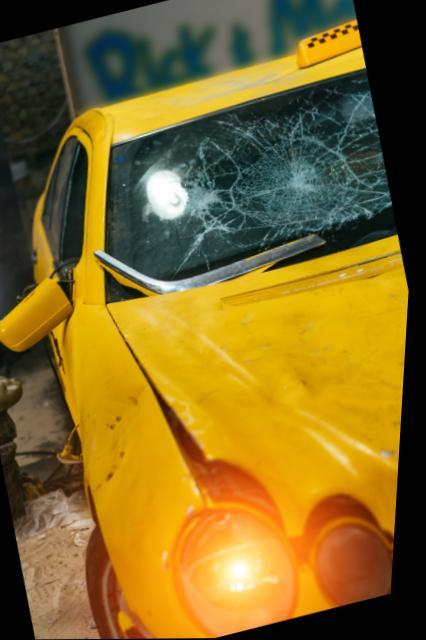dislocated part: (172, 405, 401, 573)
glass shatter: (109, 70, 399, 281)
